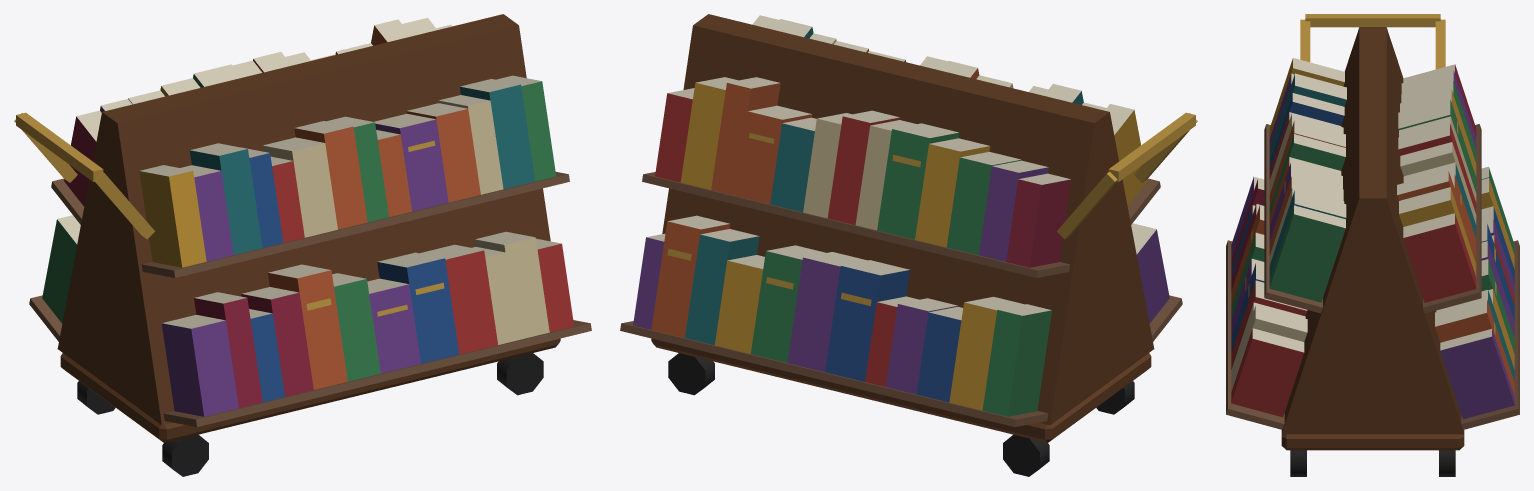
File: library-prop2.glb
3 views of the same model, side by side, from view 1: azimuth 30°, elevation 25°; view 2: azimuth 150°, elevation 25°; view 3: azimuth 270°, elevation 25° (orthographic). The views are drawn at different scales.
Visible parts, largest first — view 1: library-prop2; view 2: library-prop2; view 3: library-prop2.
Part boxes in pixels (x1,y1,x2,y2): library-prop2: (14, 14, 591, 476); library-prop2: (620, 14, 1197, 476); library-prop2: (1226, 14, 1519, 476).
Size of the model in its own units: 1.37 by 0.9454 by 0.8696.
